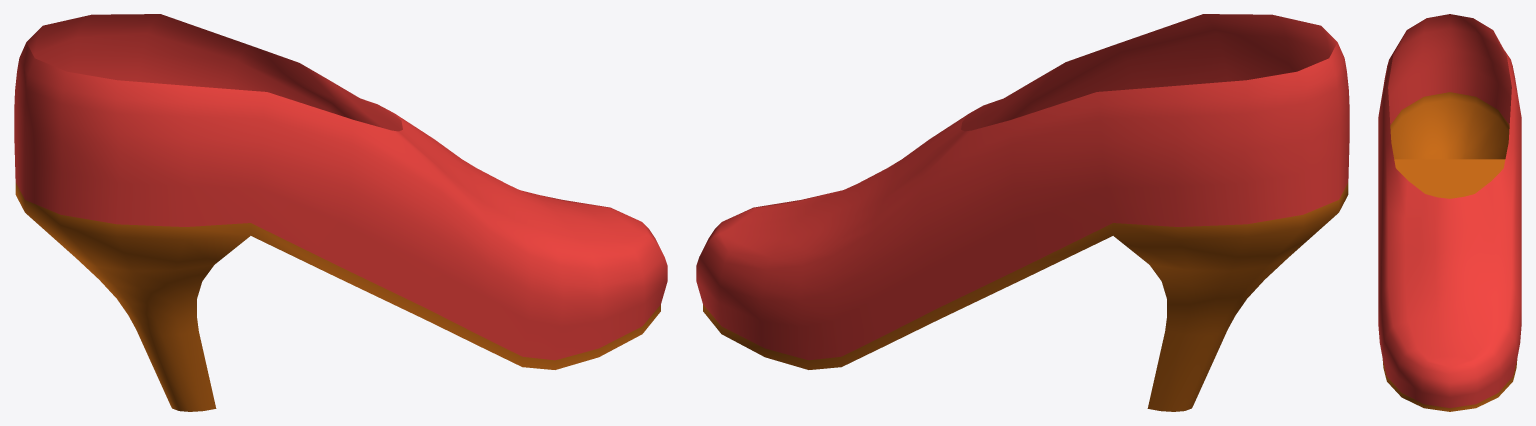
Rendered from high_heeled_shoe.glb.
The picture shows the model from 3 angles, left to right: view 1: azimuth 30°, elevation 25°; view 2: azimuth 150°, elevation 25°; view 3: azimuth 270°, elevation 25°; orthographic projection. The views are drawn at different scales.
Parts seen in each view (by area): view 1: Circle.1807; view 2: Circle.1807; view 3: Circle.1807.
Part boxes in pixels (left/top/right/bottom): Circle.1807: left=14, top=14, right=667, bottom=411; Circle.1807: left=696, top=14, right=1349, bottom=411; Circle.1807: left=1378, top=14, right=1521, bottom=411.
Size of the model in its own units: 2.41 by 1.39 by 0.8121.
Materials: 1 (1 with a texture image).
